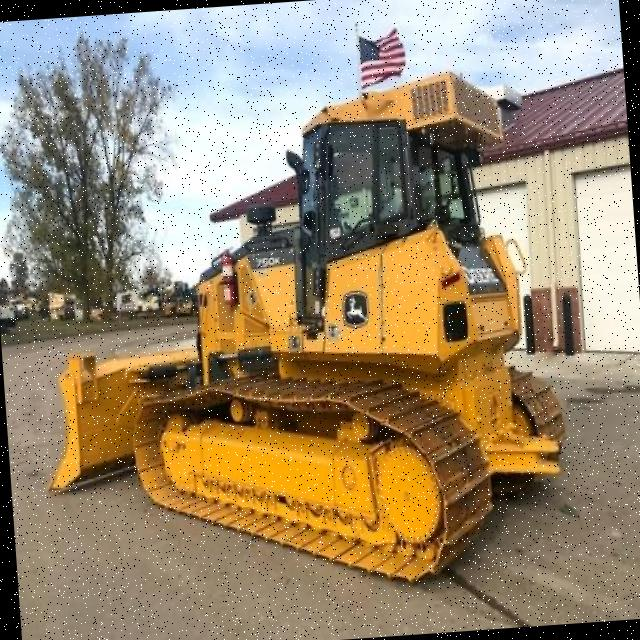Bulldozer: (24, 40, 580, 620)
